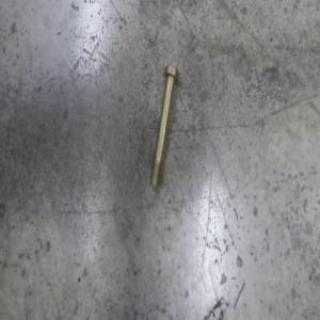Bolttrack_idkeyframe: (148, 64, 179, 190)
